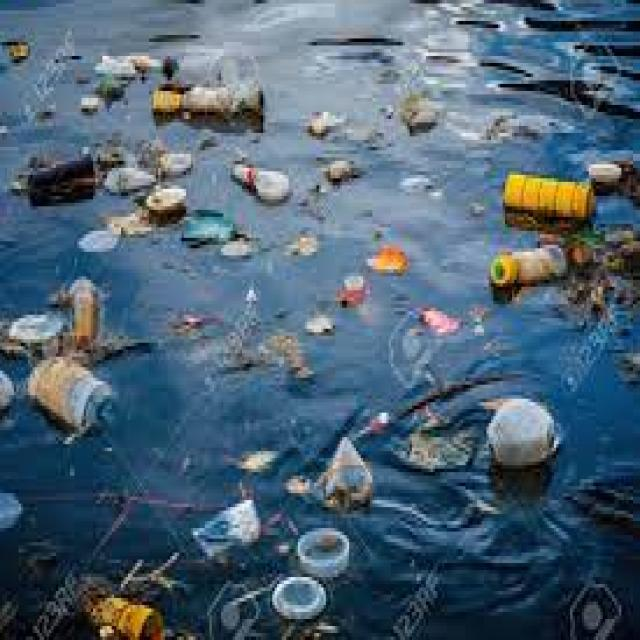plasticbottle: (142, 20, 300, 141), (24, 330, 139, 444), (498, 143, 602, 230), (229, 148, 288, 210)
plasticbottlecap: (269, 572, 339, 629), (289, 525, 359, 576)
